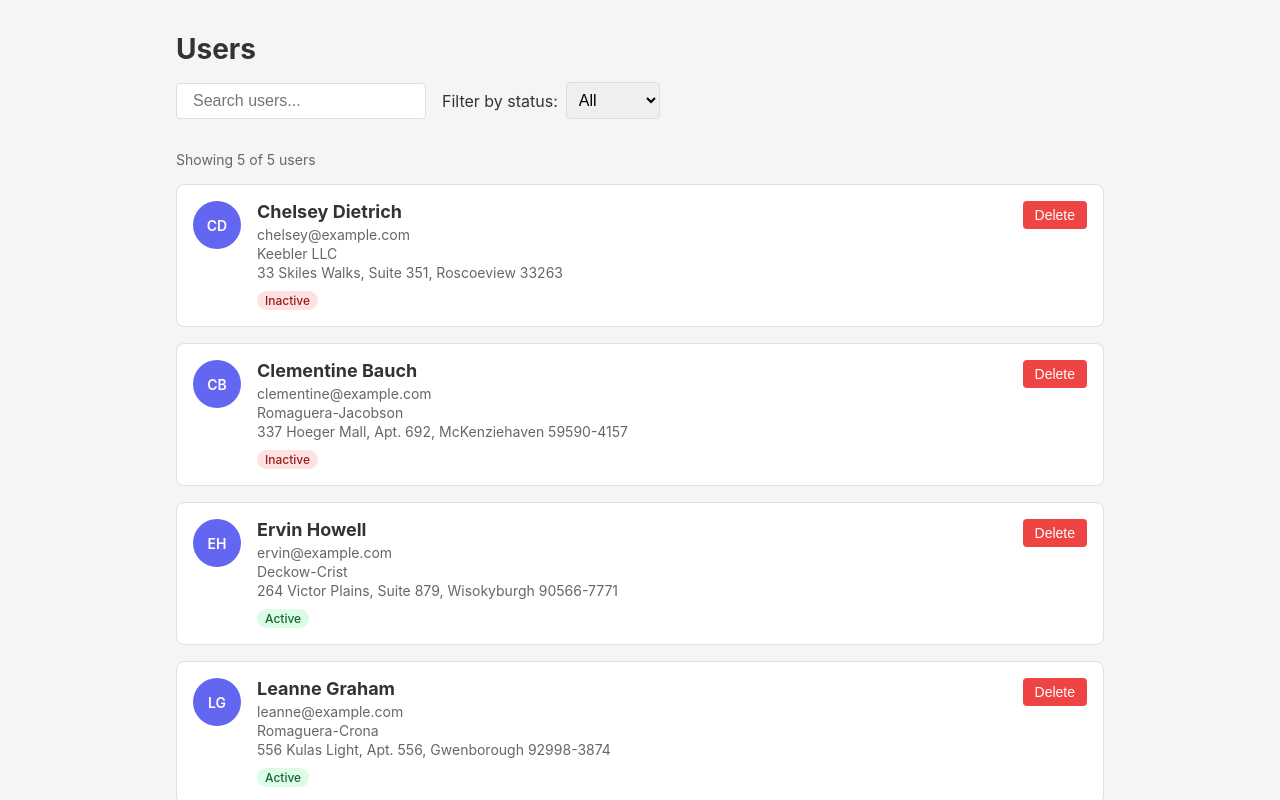
Test: UsersPage › filters users by status
This screenshot has width=1280, height=800.
Expected: the heading "Leanne Graham" is shown, [257,678,395,699]
Select "Inactive" filter
Select "Inactive" in the dropdown labelled "Filter by status:" at (613, 100), box [566,82,660,119]
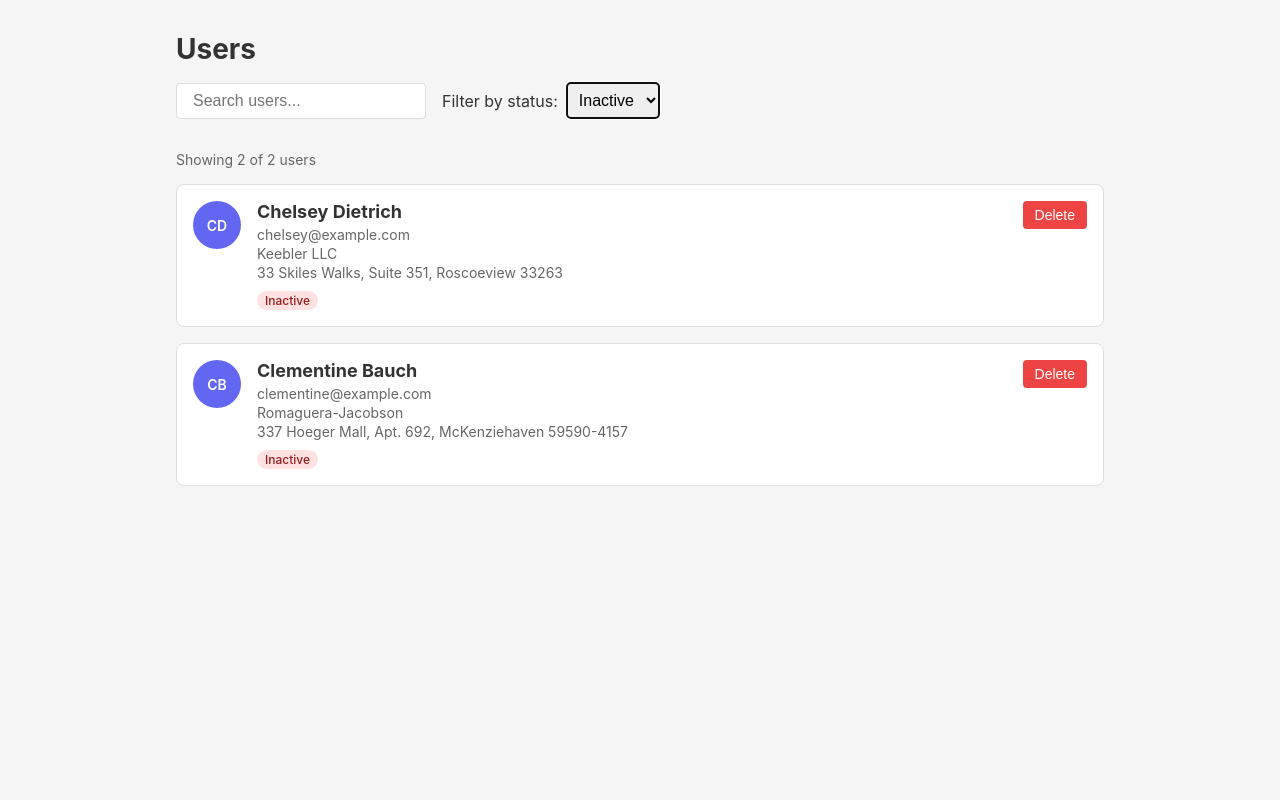
Expected: the heading "Clementine Bauch" is shown, [257,360,417,381]
Expected: the heading "Leanne Graham" is gone
